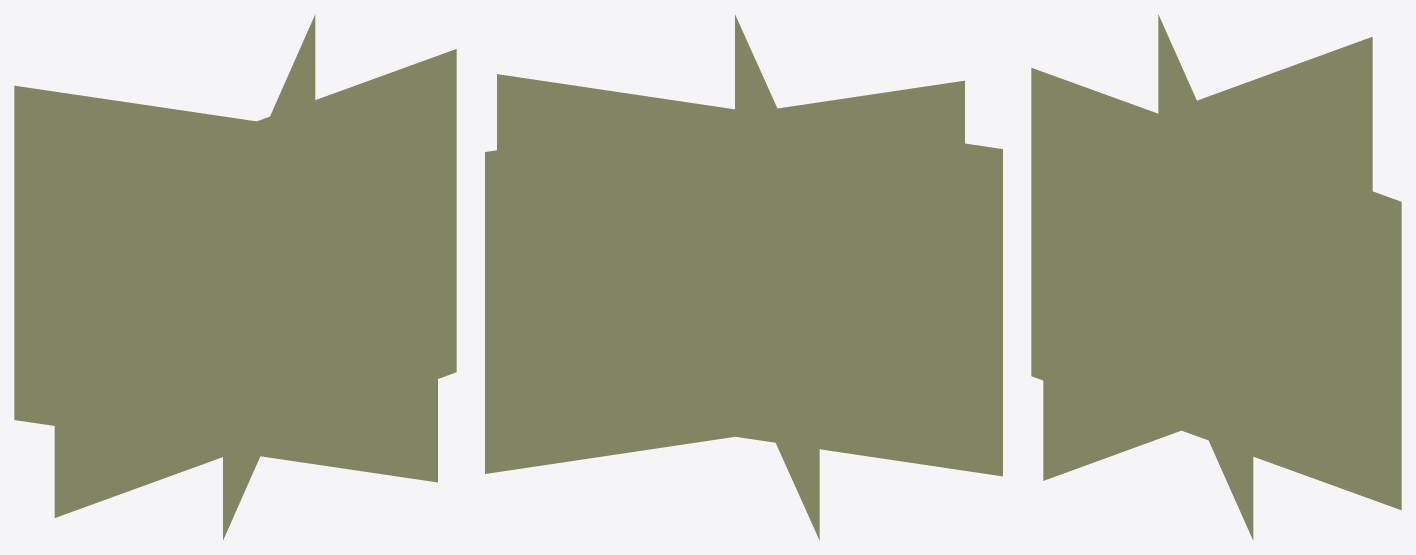
File: ZR_GrassClump_Tall.fbx
The picture shows the model from 3 angles, left to right: view 1: azimuth 30°, elevation 25°; view 2: azimuth 150°, elevation 25°; view 3: azimuth 270°, elevation 25°; orthographic projection. The views are drawn at different scales.
Parts seen in each view (by area): view 1: ZR_GrassClump_Tall; view 2: ZR_GrassClump_Tall; view 3: ZR_GrassClump_Tall.
Boxes of the visible parts, box(x1,y1,x2,y2) form: ZR_GrassClump_Tall: box(14, 14, 456, 539); ZR_GrassClump_Tall: box(485, 15, 1002, 539); ZR_GrassClump_Tall: box(1031, 14, 1401, 540).
Bounding box in the file's own units: 1.43 × 1.01 × 1.05.
